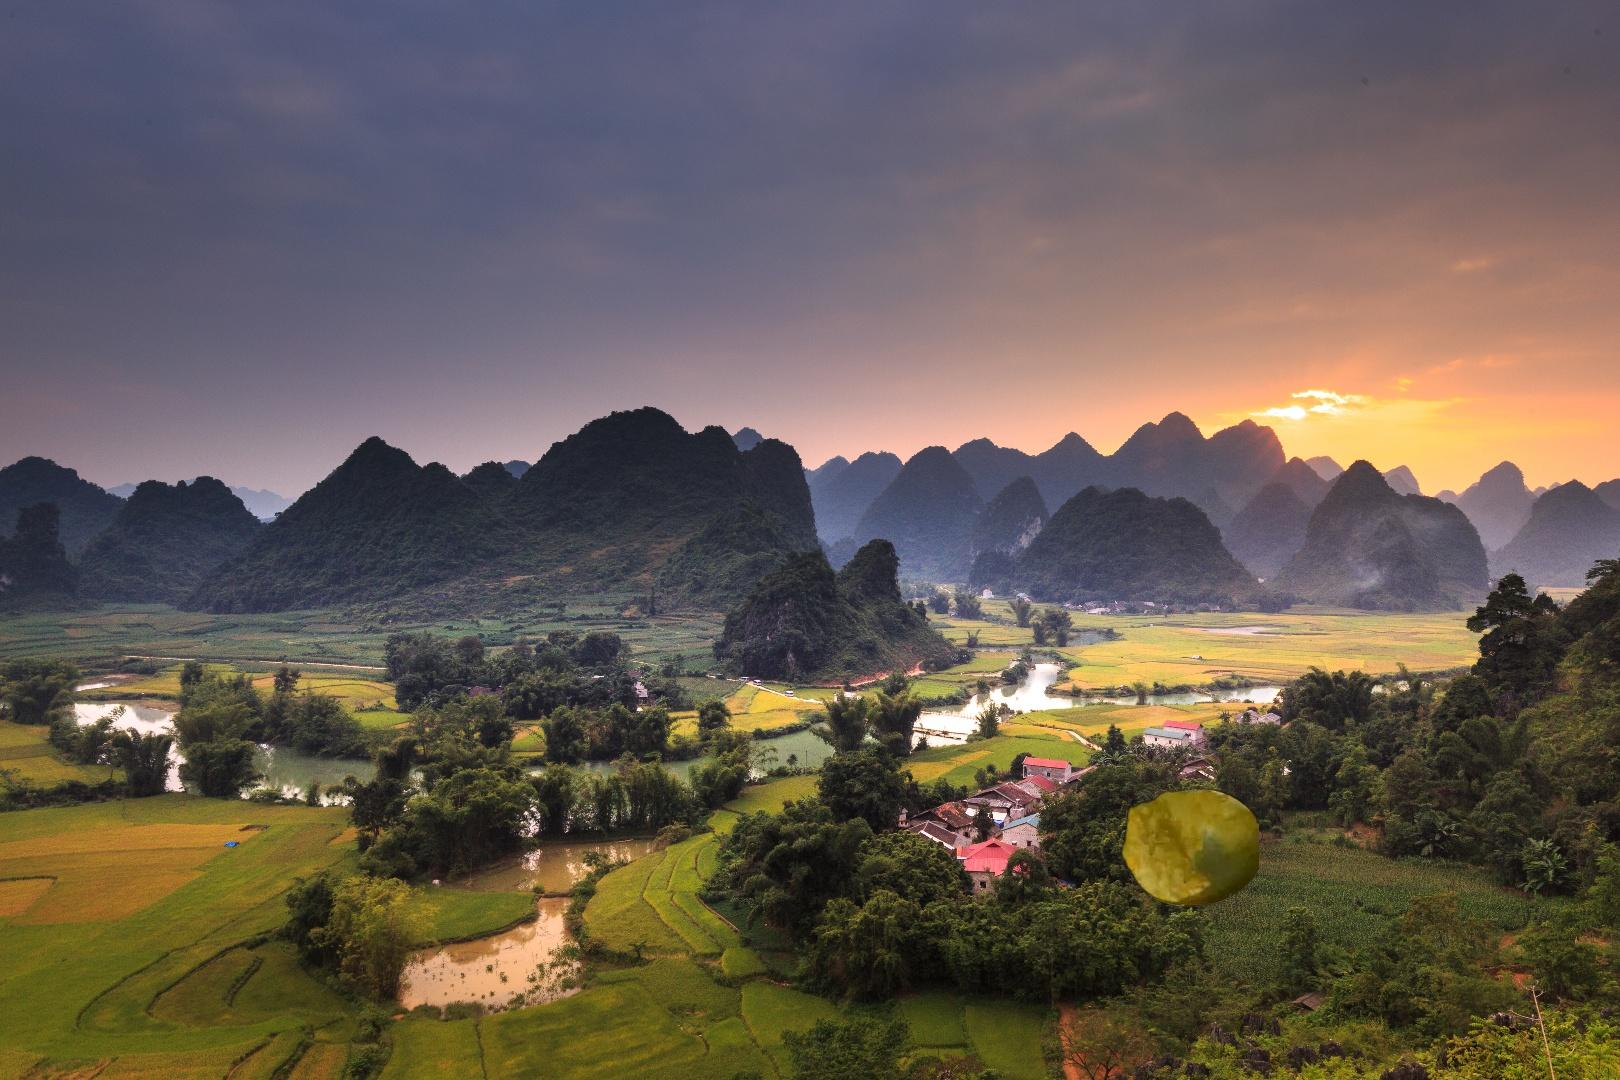biological: (976, 771, 1260, 1080)
penholder: (142, 1009, 1264, 1080)
